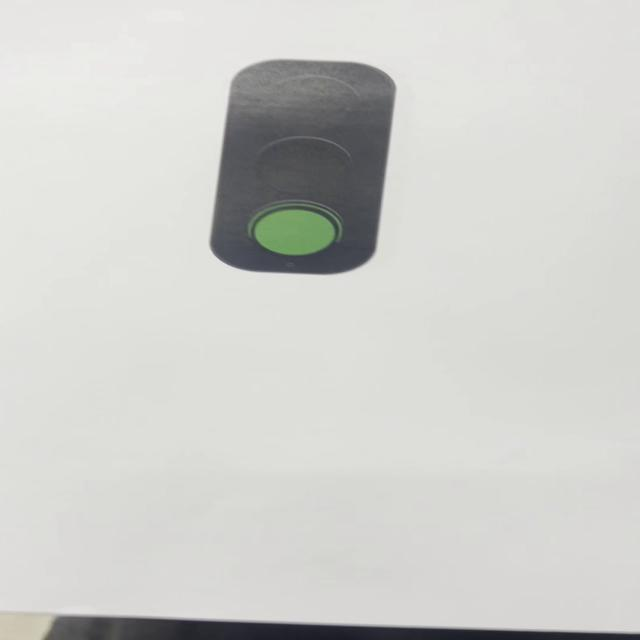green: (214, 59, 398, 276)
